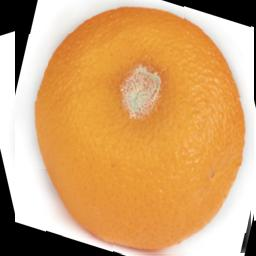Orange Rotten: (15, 0, 254, 256)
